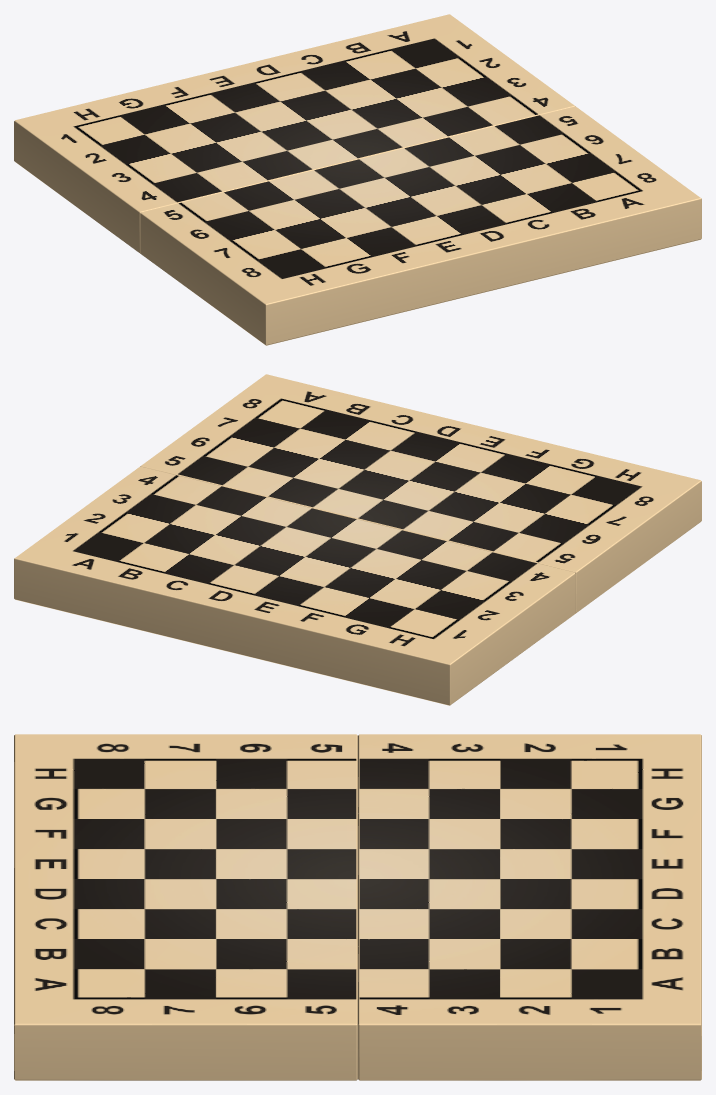
The model's file is Chesspad_01.glb.
The picture shows the model from 3 angles, top to bottom: view 1: azimuth 30°, elevation 25°; view 2: azimuth 150°, elevation 25°; view 3: azimuth 270°, elevation 25°; orthographic projection. The views are drawn at different scales.
Visible parts, largest first — view 1: Chesspad_02, Chesspad_01; view 2: Chesspad_01, Chesspad_02; view 3: Chesspad_02, Chesspad_01.
Boxes of the visible parts, x1,y1,x2,y2 form: Chesspad_02: (140, 106, 701, 345); Chesspad_01: (14, 14, 575, 253); Chesspad_01: (14, 466, 575, 705); Chesspad_02: (140, 374, 701, 613); Chesspad_02: (14, 734, 357, 1080); Chesspad_01: (358, 734, 701, 1080).
Size of the model in its own units: 0.4813 by 0.0456 by 0.4813.
Materials: 2 (2 with a texture image).
